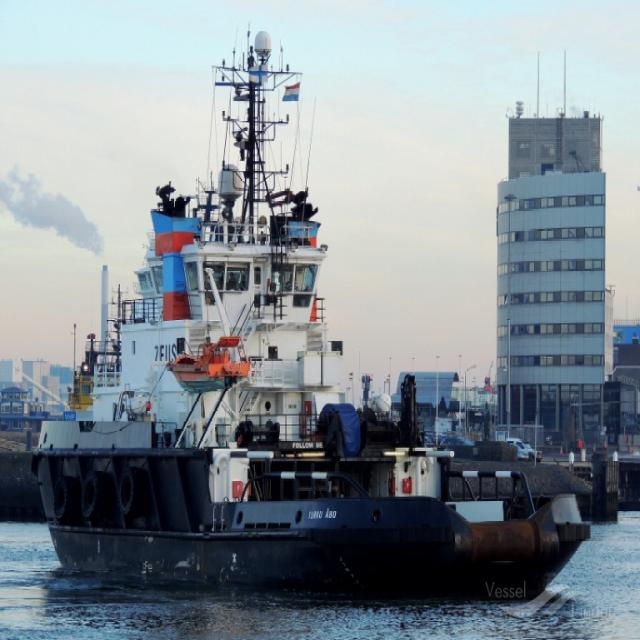OCR: (303, 501, 341, 527), (147, 336, 178, 364)
